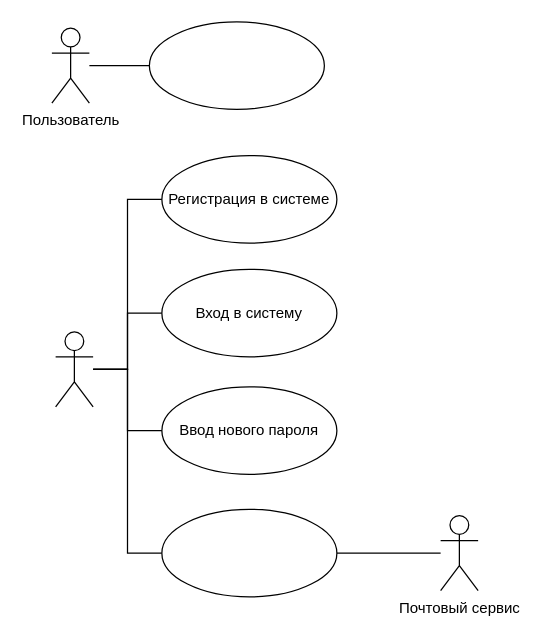
This 541x639 diagram has some shape labels left out. The centre of each missing label's shape, as x and y in pixels:
"Восстановление пароля" belongs at pixel 249 552.
"Выход из системы" belongs at pixel 236 65.
"Гость" belongs at pixel 73 369.
